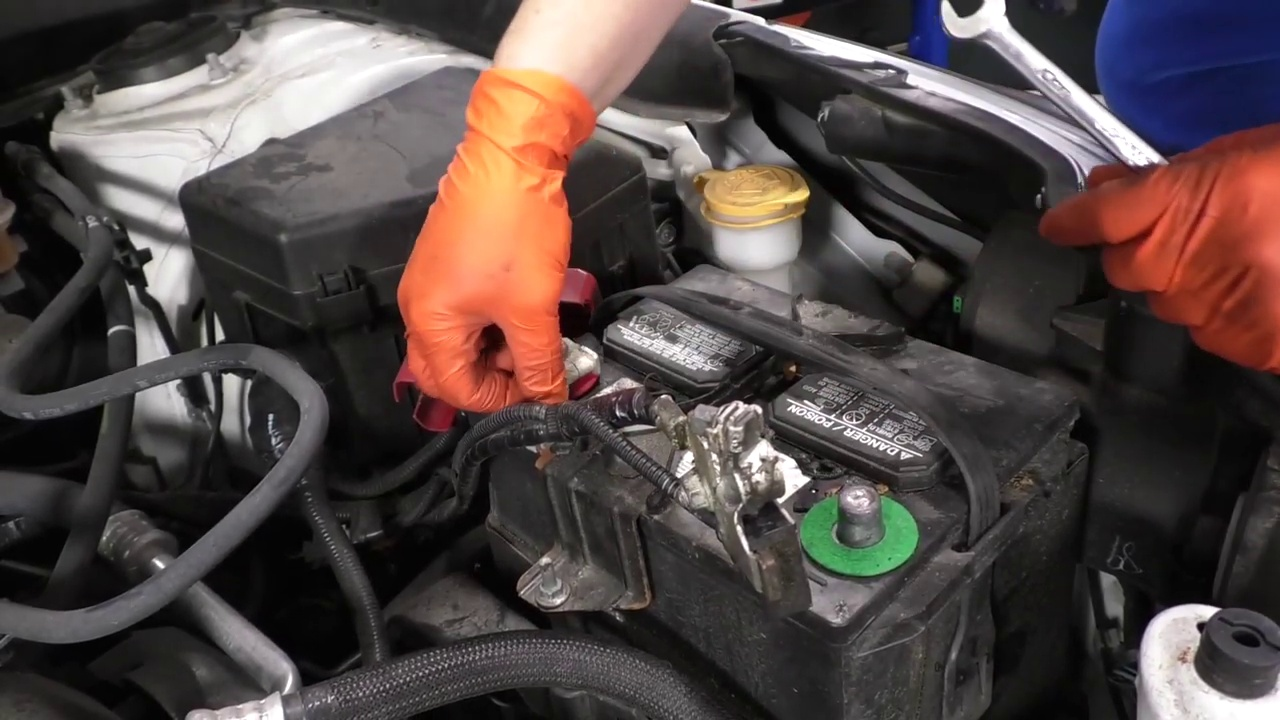battery: (479, 255, 1073, 611)
neg_disconnected: (762, 448, 913, 590)
pos_touched: (392, 268, 626, 437)
